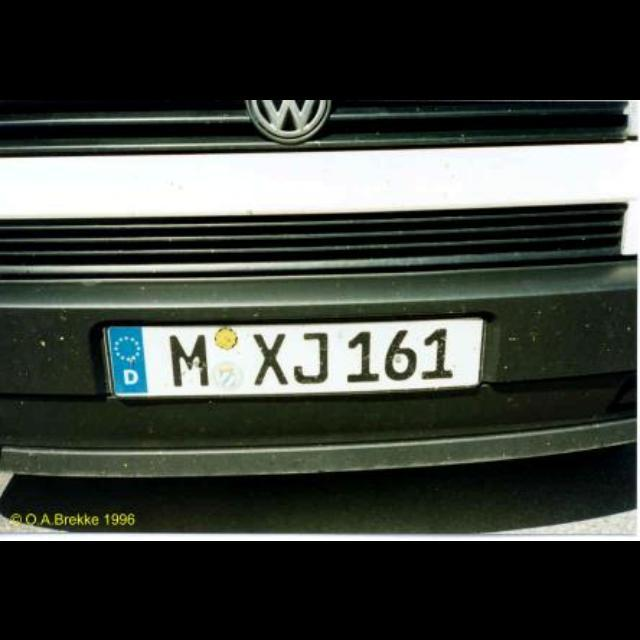license-plates: (105, 318, 485, 398)
